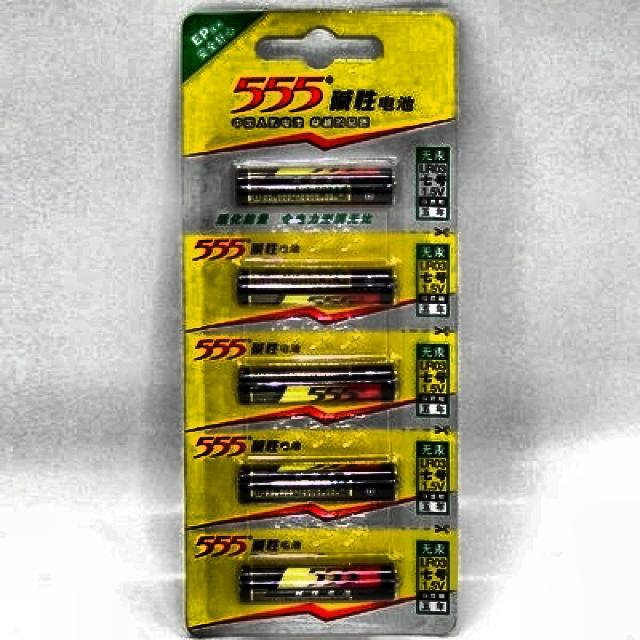Non-Valuable Waste - Batteries: (240, 365, 394, 403), (236, 168, 392, 205), (240, 465, 395, 502), (239, 269, 392, 304), (241, 568, 394, 601)
